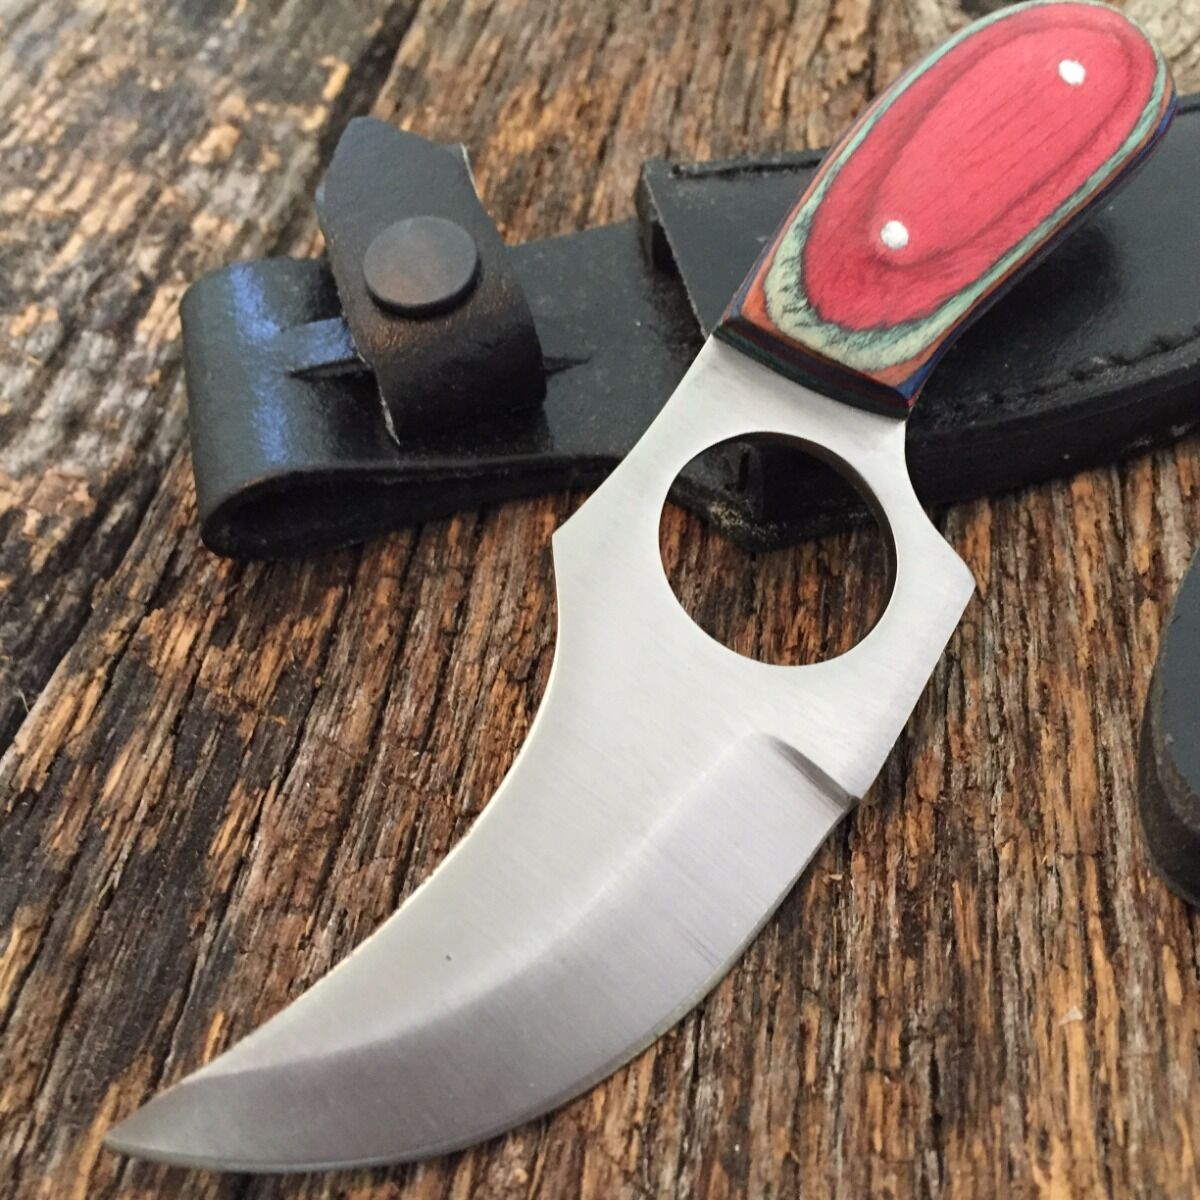knief: (87, 23, 1171, 1181)
